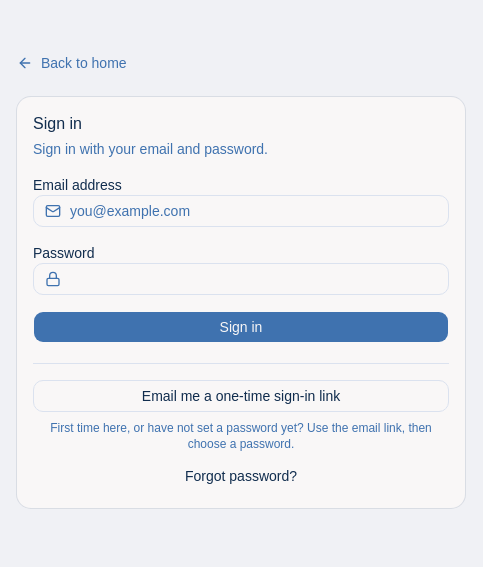
Test: Login: password sign-in › shows a safe message for {"code":"invalid_credentials","status":400}
Type "person@example.test" into the field labelled "Email address".
click(241, 210); type("person@example.test")  # box [33,194,449,226]
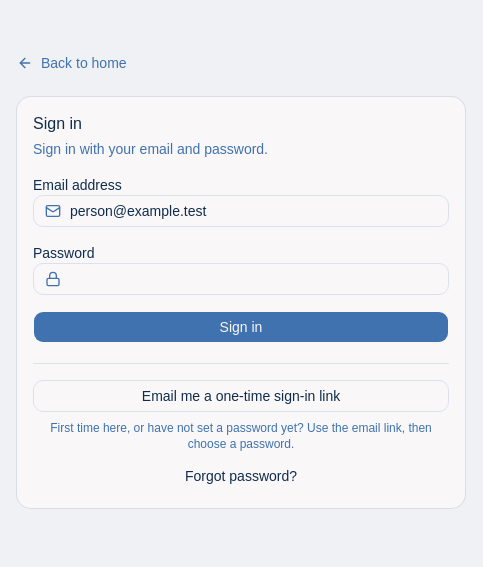
Type "wrong password" into the password field labelled "Password".
click(241, 278); type("wrong password")  # box [33,262,449,294]
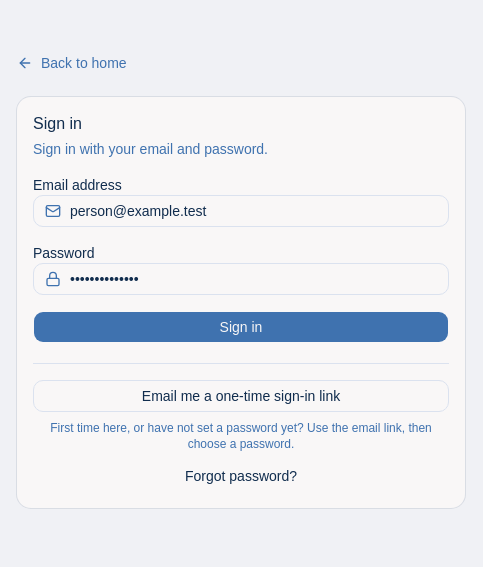
Click the button "Sign in".
click(241, 326)  # box [33,310,449,342]
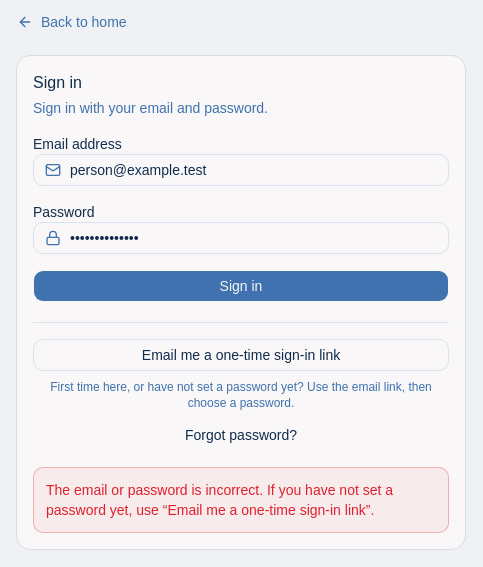
Expected: the message shows "email or password is incorrect", [46,482,393,518]
